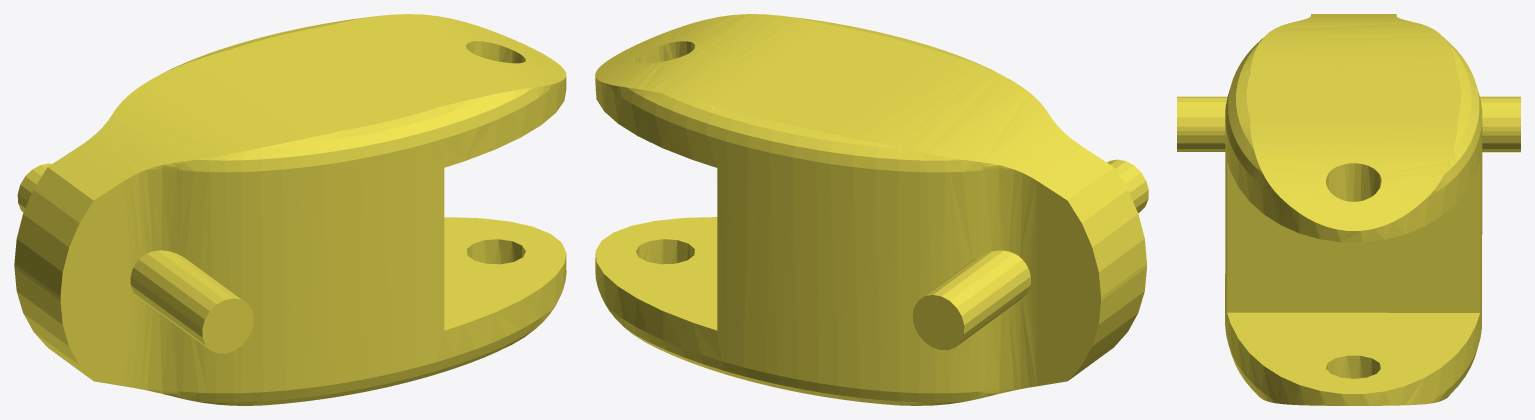
File: tool pitch link.OBJ
The picture shows the model from 3 angles, left to right: view 1: azimuth 30°, elevation 25°; view 2: azimuth 150°, elevation 25°; view 3: azimuth 270°, elevation 25°; orthographic projection. The views are drawn at different scales.
Parts seen in each view (by area): view 1: tool_pitch_link_Tool_Pitch_Link; view 2: tool_pitch_link_Tool_Pitch_Link; view 3: tool_pitch_link_Tool_Pitch_Link.
Part boxes in pixels (bbox=[...]): tool_pitch_link_Tool_Pitch_Link: bbox=[14, 14, 566, 405]; tool_pitch_link_Tool_Pitch_Link: bbox=[595, 14, 1148, 405]; tool_pitch_link_Tool_Pitch_Link: bbox=[1177, 14, 1520, 405].
Bounding box in the file's own units: 0.13 × 0.063 × 0.0802.
